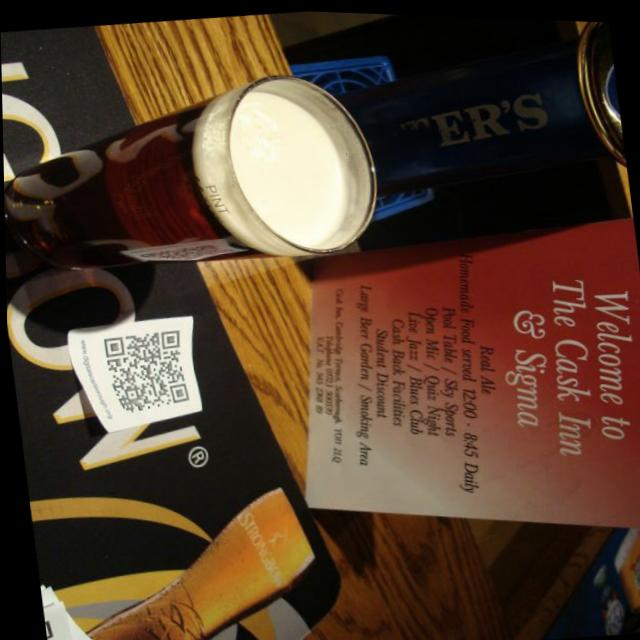qrcode: (103, 327, 188, 417)
